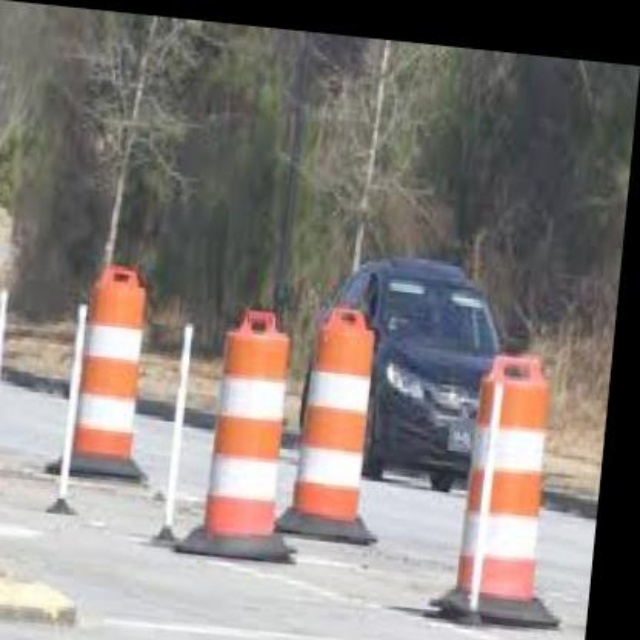obstacle: (458, 346, 564, 597), (209, 302, 307, 537), (301, 302, 385, 517), (71, 256, 154, 456)
